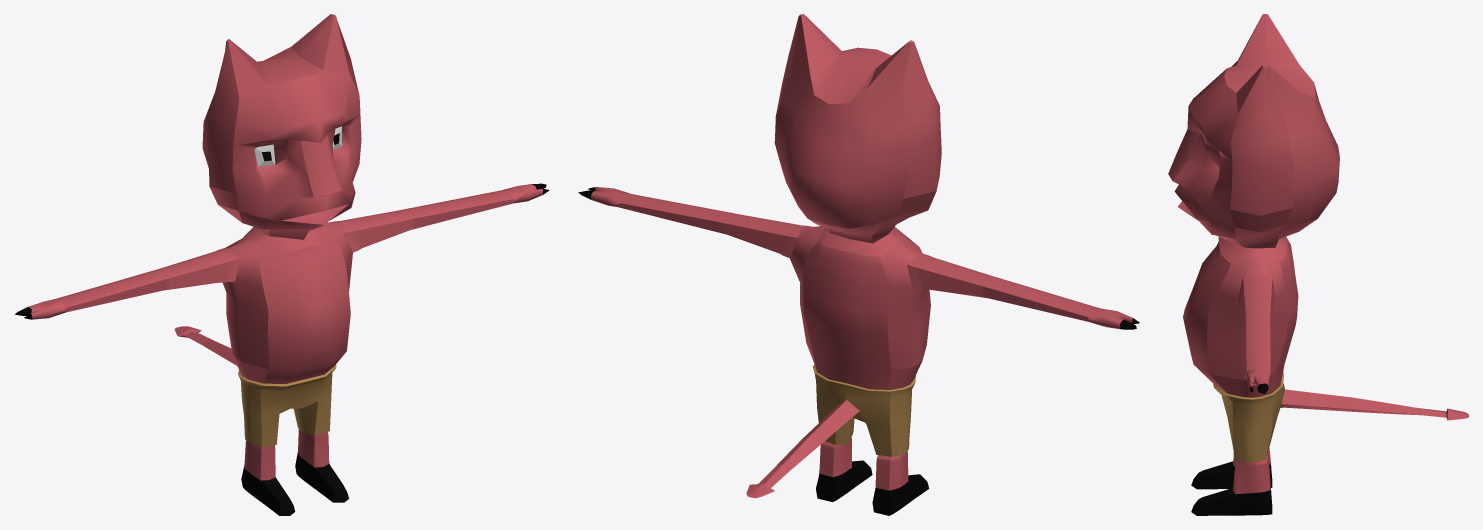
Rendered from diable.fbx.
3 renders of one model, left to right at view 1: azimuth 30°, elevation 25°; view 2: azimuth 150°, elevation 25°; view 3: azimuth 270°, elevation 25°, orthographic. The views are drawn at different scales.
Visible parts, largest first — view 1: polySurface8_diable; view 2: polySurface8_diable; view 3: polySurface8_diable.
Part boxes in pixels (bbox=[...]): polySurface8_diable: bbox=[15, 14, 549, 515]; polySurface8_diable: bbox=[578, 14, 1139, 515]; polySurface8_diable: bbox=[1168, 14, 1468, 515].
Bounding box in the file's own units: 238 × 194 × 115.
